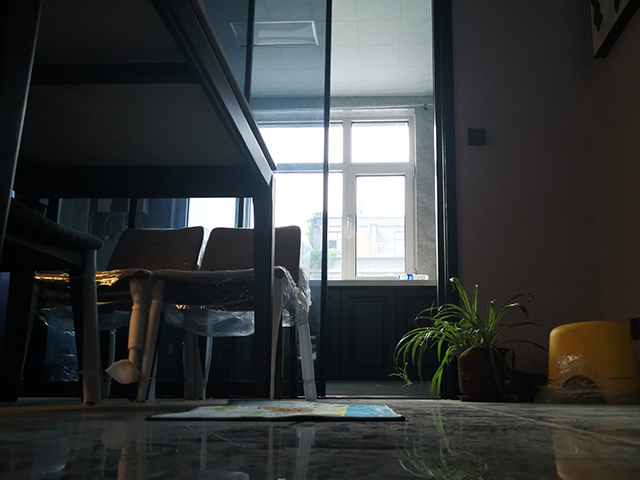cabinet: (323, 279, 447, 400)
carpet: (143, 396, 406, 423)
stool: (1, 1, 109, 409), (27, 220, 206, 403), (150, 227, 318, 405), (546, 317, 640, 407)
table: (1, 1, 280, 404)
